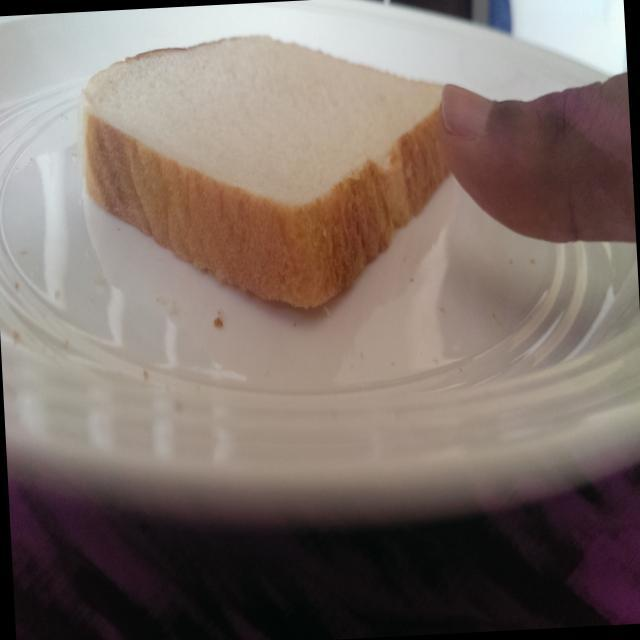Bread: (72, 23, 451, 336)
Finger: (428, 72, 623, 261)
